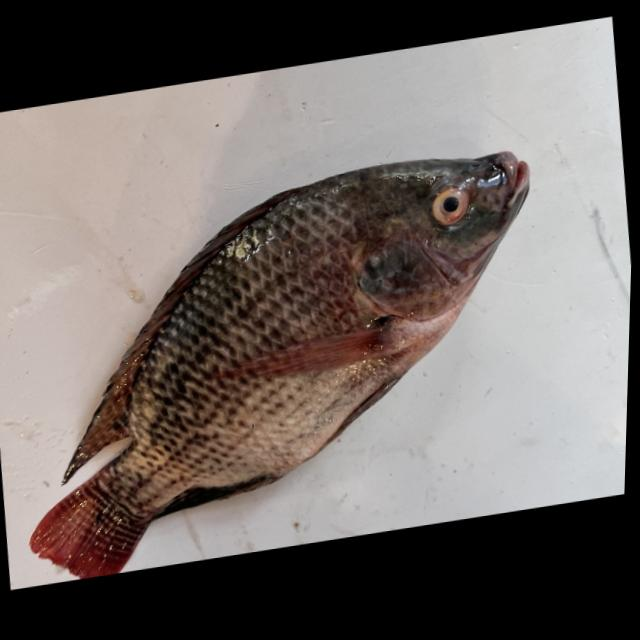Tilapia: (0, 137, 566, 589)
